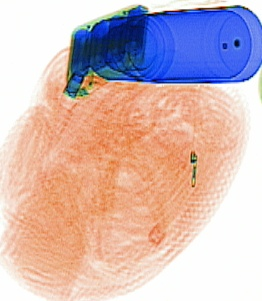powerbank: (58, 1, 148, 98)
